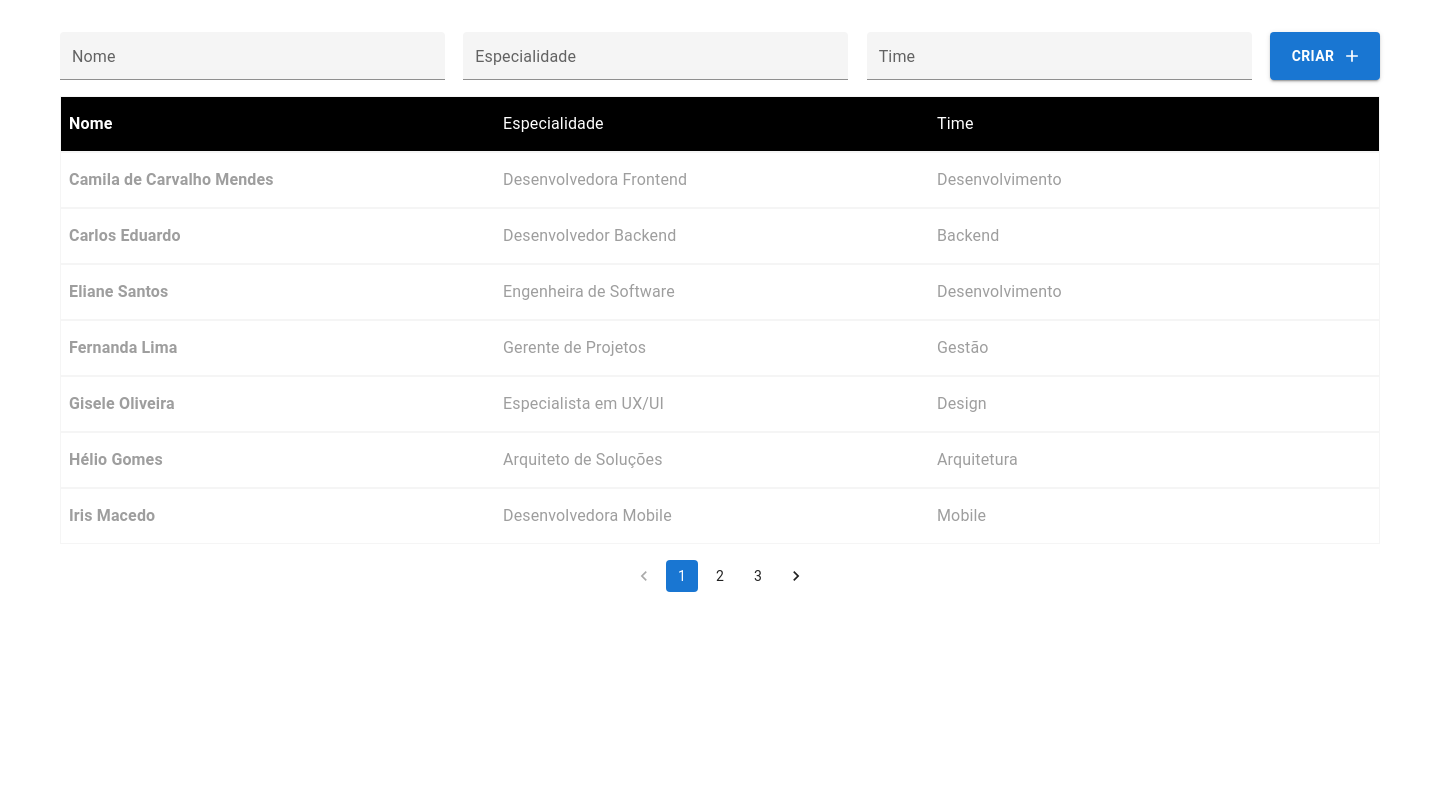
Test case: Home › should open the modal when the 'Criar' button is clicked
Click the button "Criar".
click(1325, 56)  # box top-left (1270, 32), bottom-right (1380, 80)
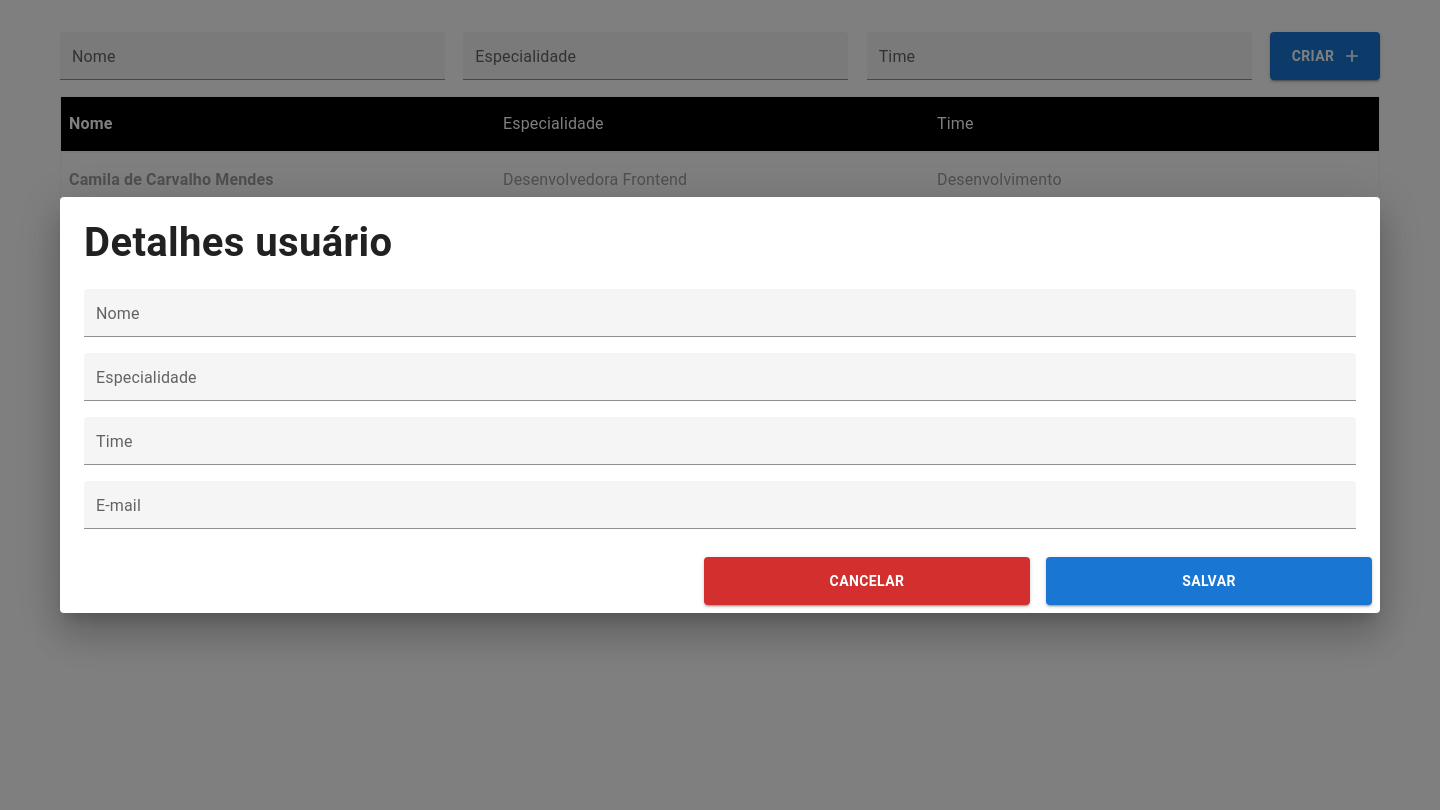
Expected: the text "Detalhes usuário" is shown, top-left (84, 219), bottom-right (392, 266)
